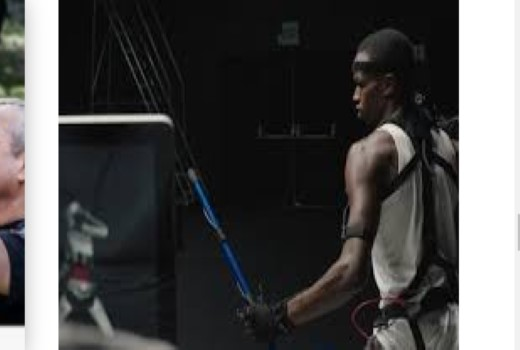baston_e: (187, 198, 267, 289)
baston_v: (180, 163, 213, 186)
